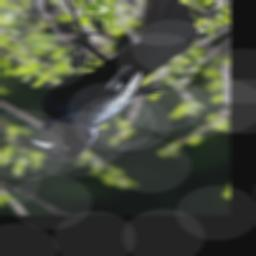Crow: (29, 0, 197, 162)
